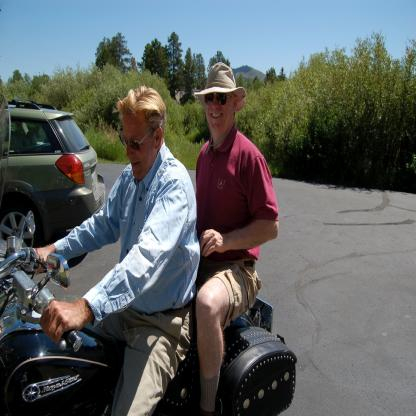Car: (2, 97, 106, 251)
